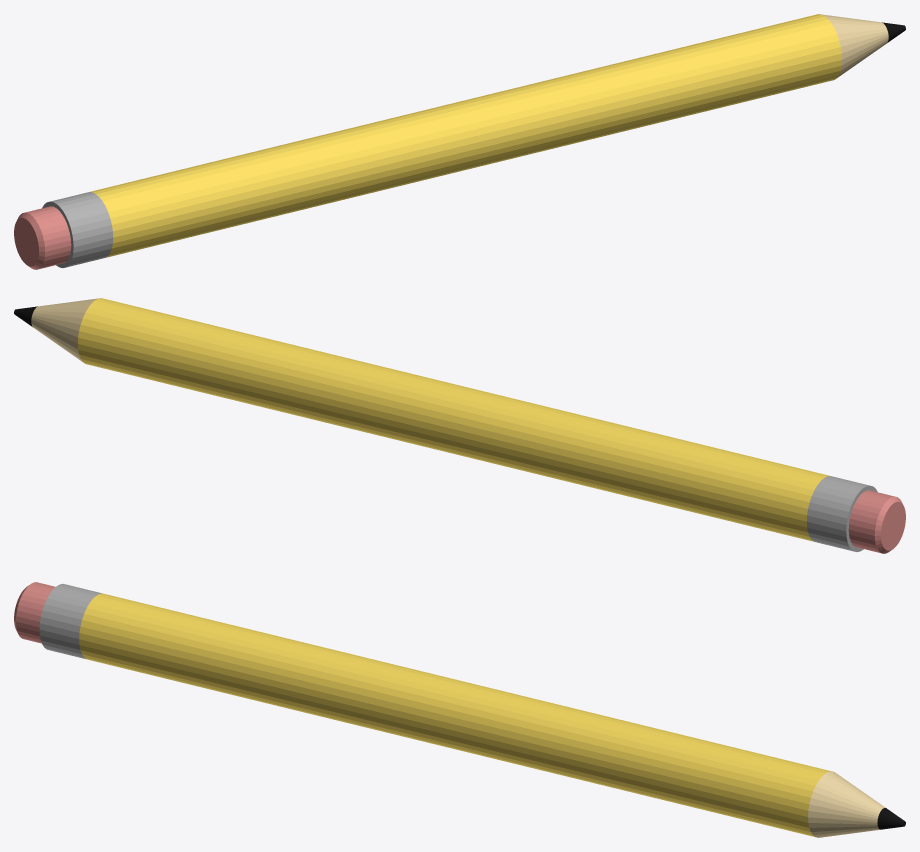
The model's file is pencil.fbx.
The picture shows the model from 3 angles, top to bottom: view 1: azimuth 30°, elevation 25°; view 2: azimuth 150°, elevation 25°; view 3: azimuth 330°, elevation 25°; orthographic projection.
Parts seen in each view (by area): view 1: Cylinder; view 2: Cylinder; view 3: Cylinder.
Part boxes in pixels (box(x1,y1,x2,y2)): Cylinder: box(14, 14, 905, 269); Cylinder: box(14, 298, 905, 553); Cylinder: box(14, 582, 905, 837).
Bounding box in the file's own units: 33.97 × 2.28 × 2.28.
